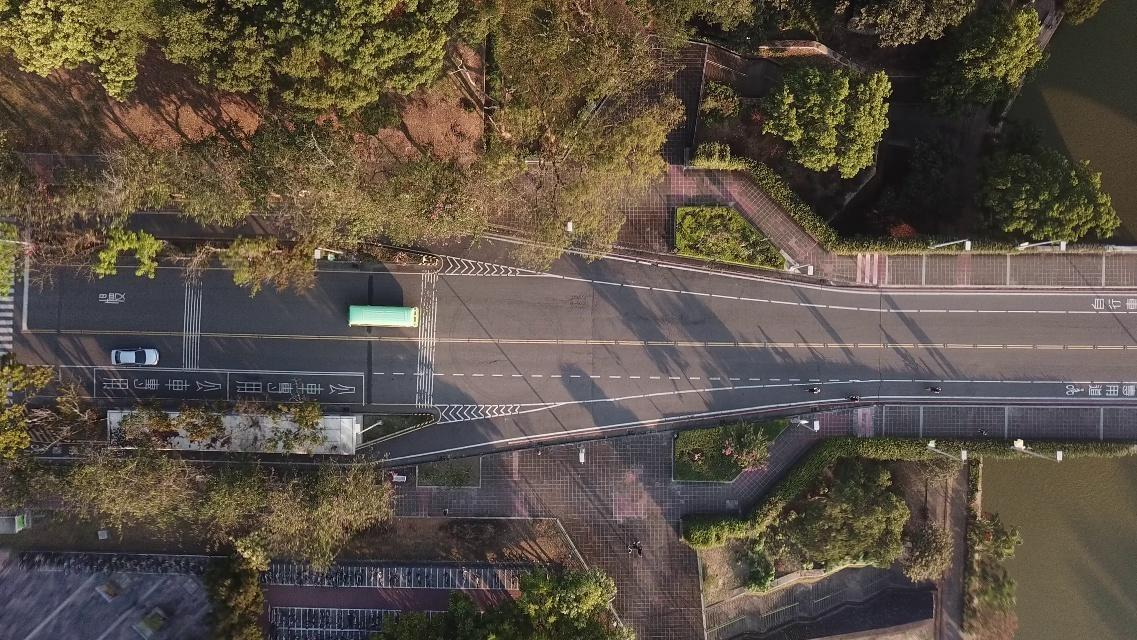Bus: (346, 303, 418, 327)
Car: (111, 347, 159, 365)
